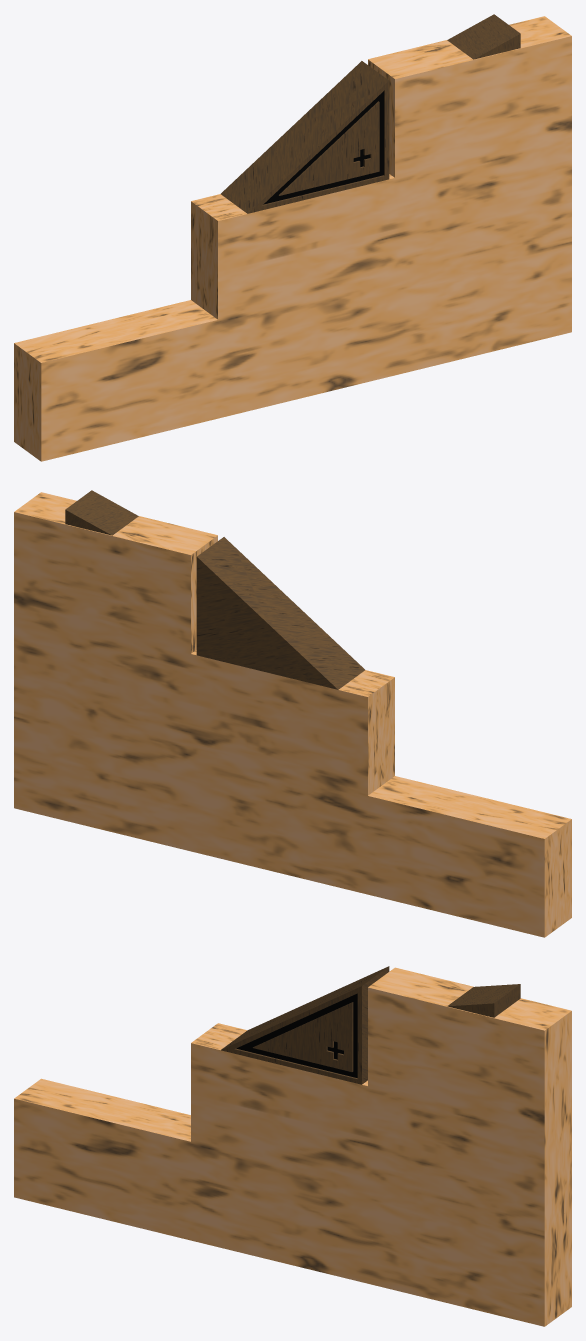
File: level9.fbx
The picture shows the model from 3 angles, top to bottom: view 1: azimuth 30°, elevation 25°; view 2: azimuth 150°, elevation 25°; view 3: azimuth 330°, elevation 25°; orthographic projection.
Parts seen in each view (by area): view 1: Steps, Wedge, Cube.023; view 2: Steps, Wedge, Cube.023; view 3: Steps, Wedge, Cube.023.
Part boxes in pixels (left/top/right/bottom): Steps: left=14, top=16, right=571, bottom=461; Wedge: left=221, top=61, right=389, bottom=213; Cube.023: left=447, top=14, right=520, bottom=59; Steps: left=14, top=492, right=571, bottom=937; Wedge: left=196, top=537, right=364, bottom=689; Cube.023: left=65, top=490, right=138, bottom=535; Steps: left=14, top=967, right=571, bottom=1326; Wedge: left=221, top=966, right=389, bottom=1084; Cube.023: left=447, top=984, right=520, bottom=1017.
Bounding box in the file's own units: 4500 × 400 × 2518.
